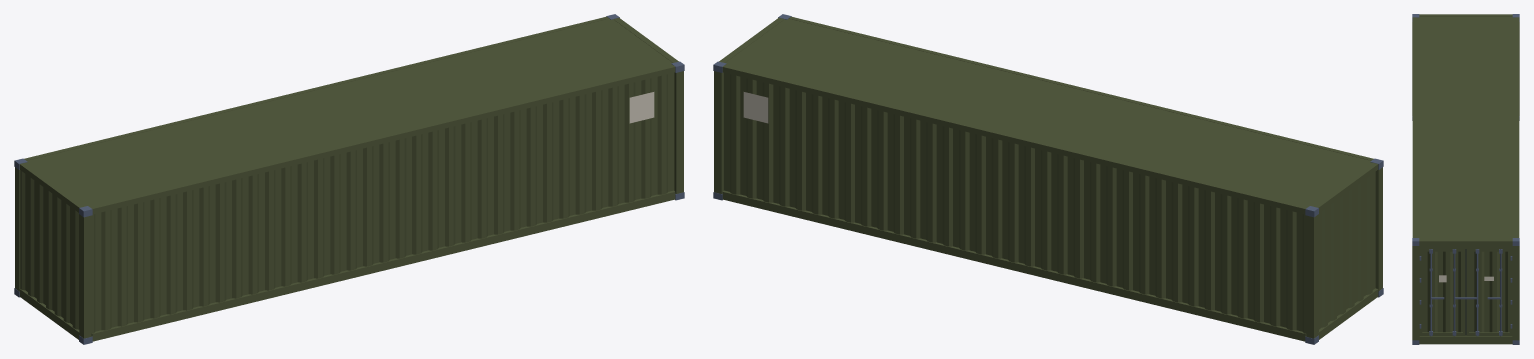
File: port_container_40_olive.glb
3 views of the same model, side by side, from view 1: azimuth 30°, elevation 25°; view 2: azimuth 150°, elevation 25°; view 3: azimuth 270°, elevation 25° (orthographic). The views are drawn at different scales.
Visible parts, largest first — view 1: shell, stencil, hardware; view 2: shell, stencil, hardware; view 3: shell, hardware, interior.
Boxes of the visible parts, box(x1,y1,x2,y2) form: shell: box(15, 16, 683, 341); stencil: box(629, 92, 654, 123); hardware: box(14, 14, 684, 344); shell: box(714, 16, 1382, 341); stencil: box(743, 92, 768, 123); hardware: box(713, 14, 1383, 344); shell: box(1412, 14, 1519, 344); hardware: box(1412, 14, 1519, 344); interior: box(1465, 249, 1466, 334).
Size of the model in its own units: 12.19 by 2.59 by 2.44.
